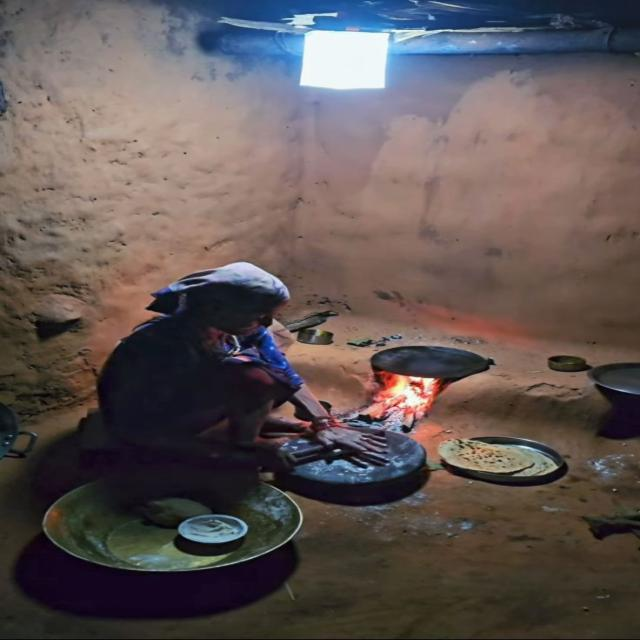fire: (378, 370, 434, 405)
